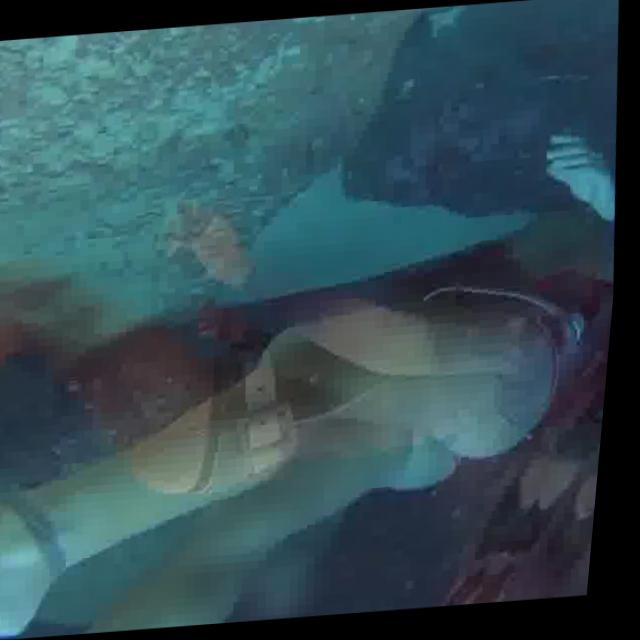human: (0, 126, 631, 640)
